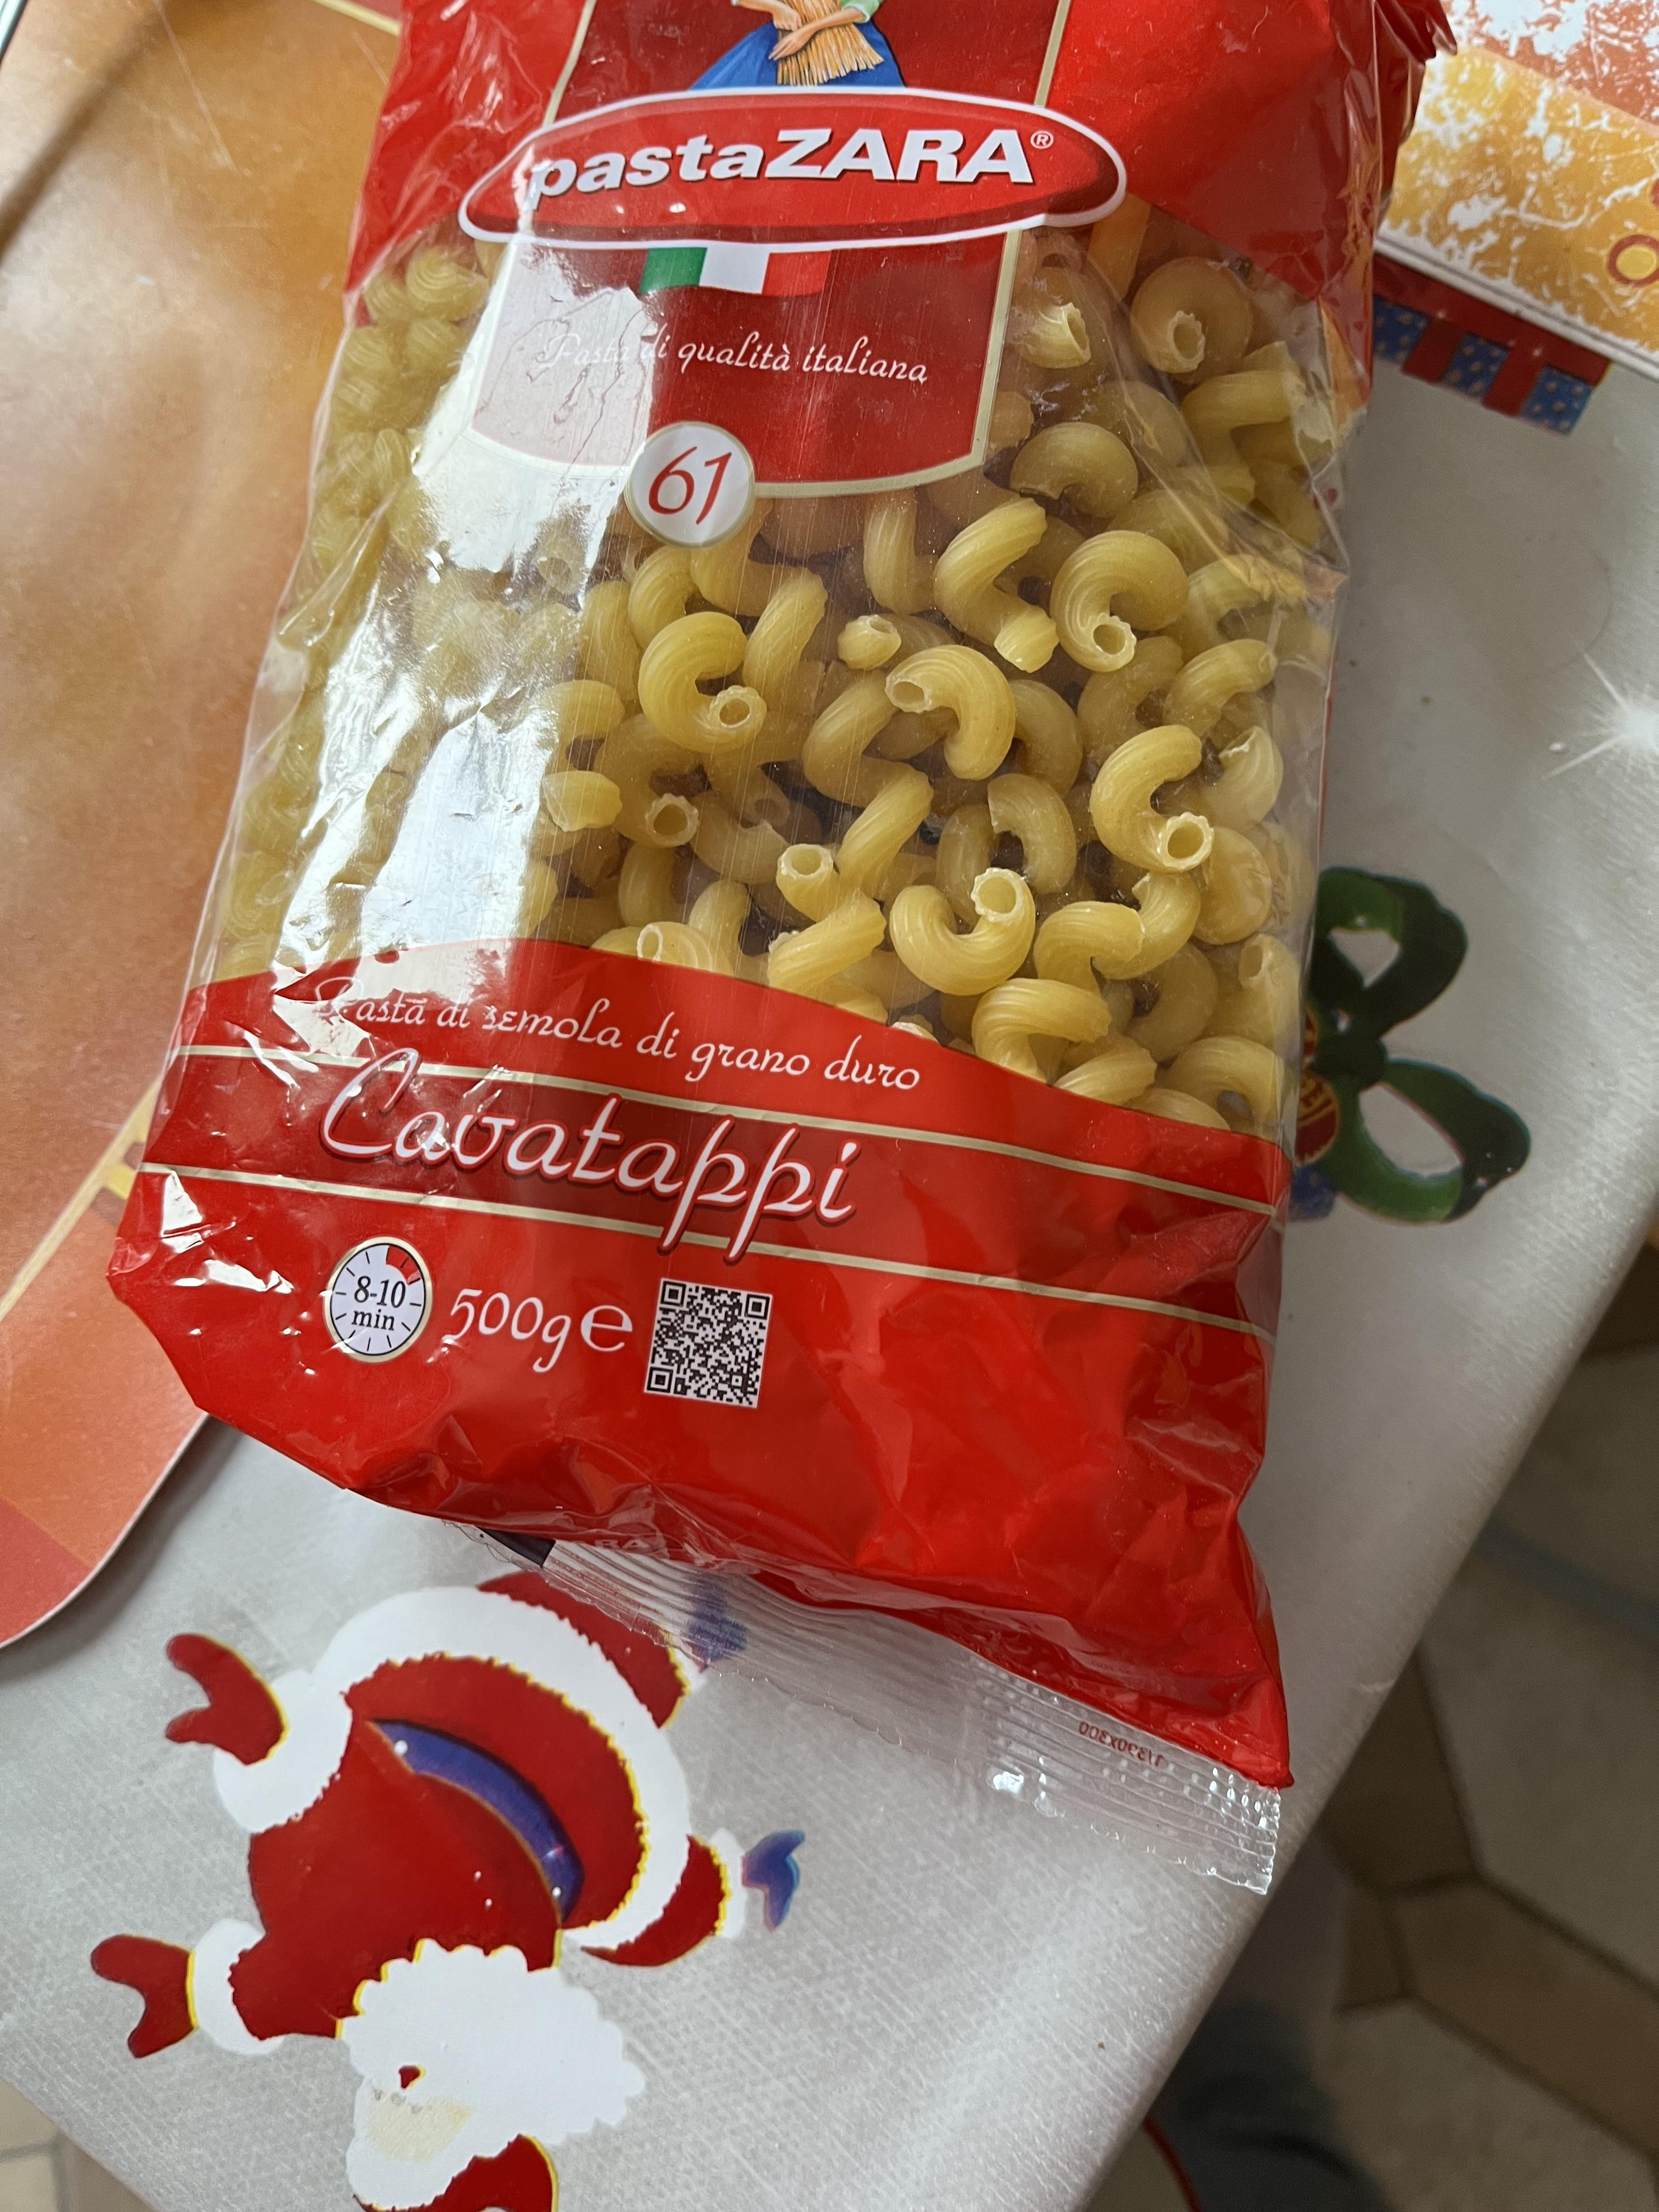qrcode: (647, 1280, 770, 1407)
